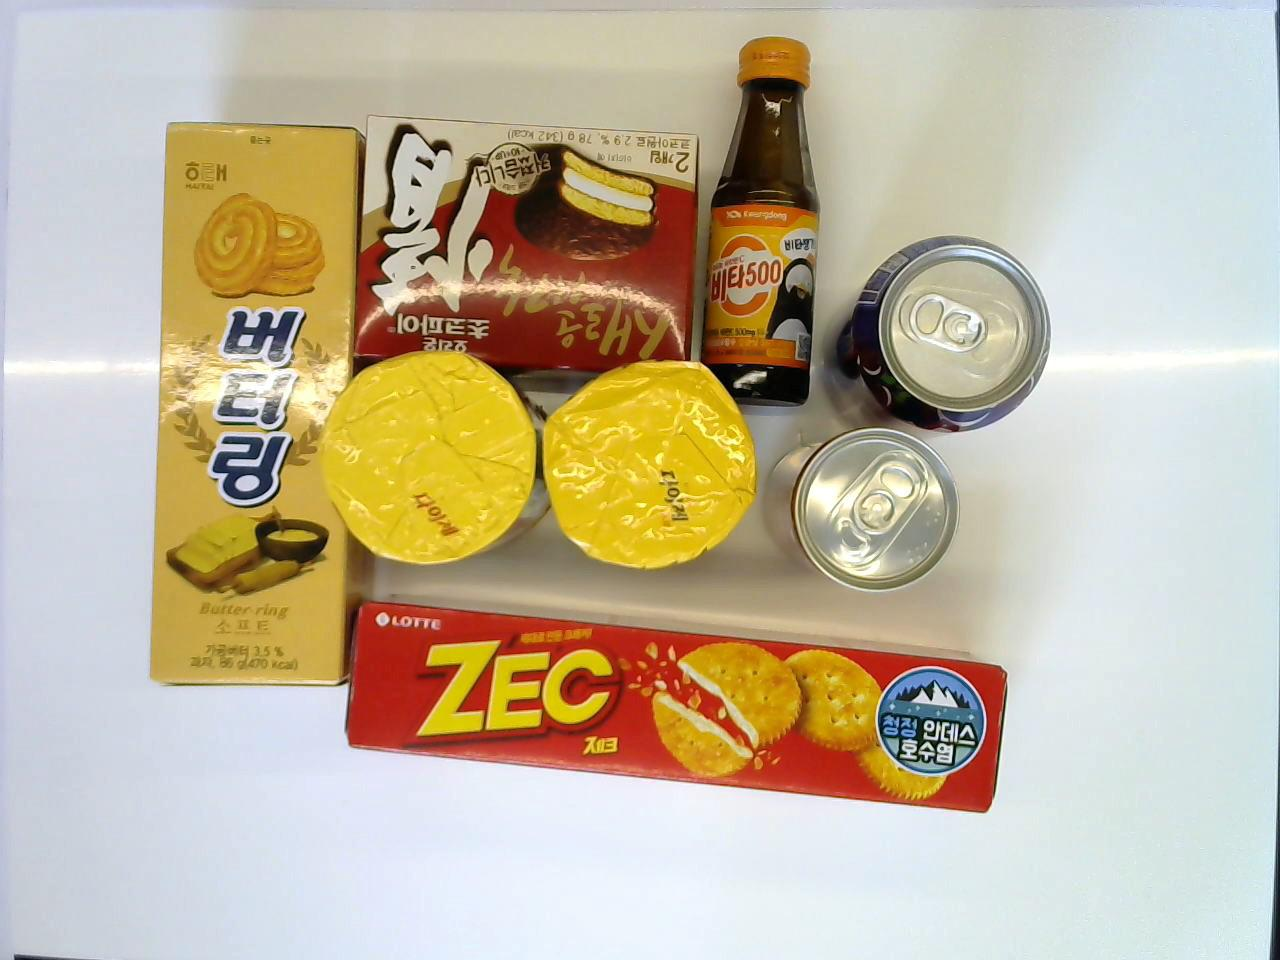buttering: (154, 117, 378, 686)
chocopie: (348, 112, 702, 380)
coke: (763, 435, 962, 596)
diget_choco: (317, 347, 546, 567)
diget_ori: (542, 353, 760, 584)
vita500: (699, 26, 819, 407)
welchs: (834, 235, 1054, 446)
zec: (335, 596, 1017, 816)
